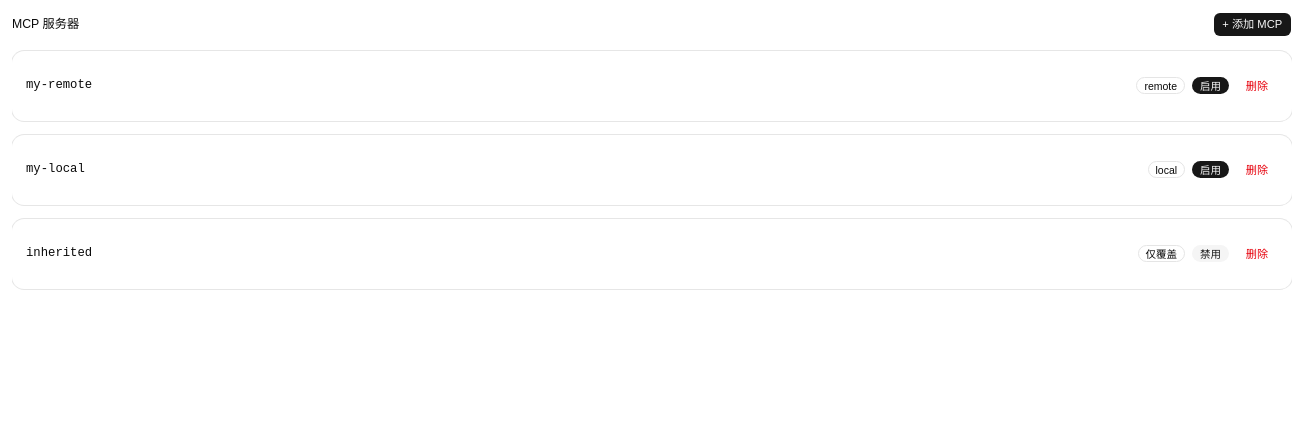
Test: McpList › 只覆盖启用状态的条目可以渲染和展开
Check: the icon "仅覆盖" is shown, box [1138,245,1185,262]
Click the text "inherited" at (59, 254), box [26,245,92,262]
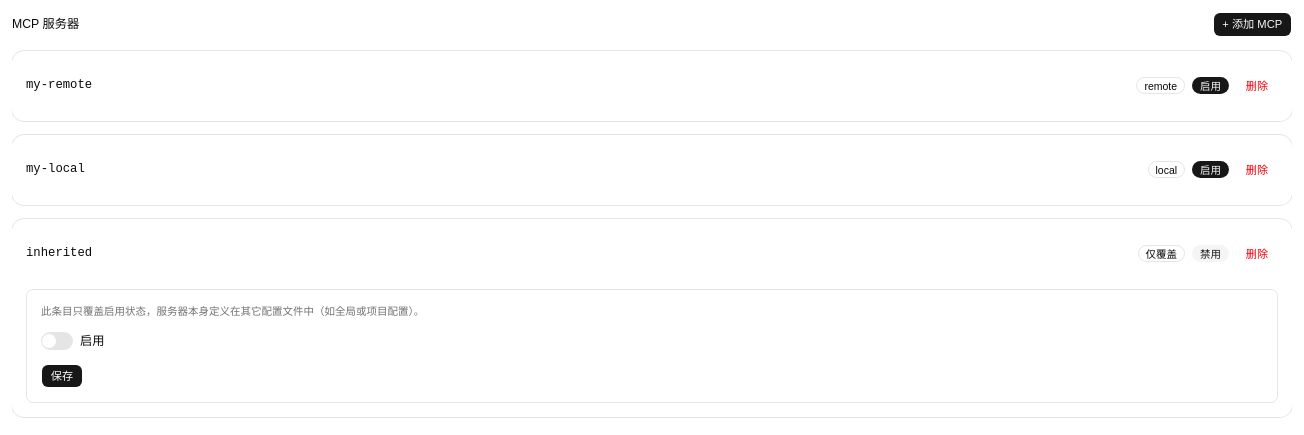
Check: the text "此条目只覆盖启用状态，服务器本身定义在其它配置文件中（如全局或项目配置）。" is shown, box [41,304,424,316]
